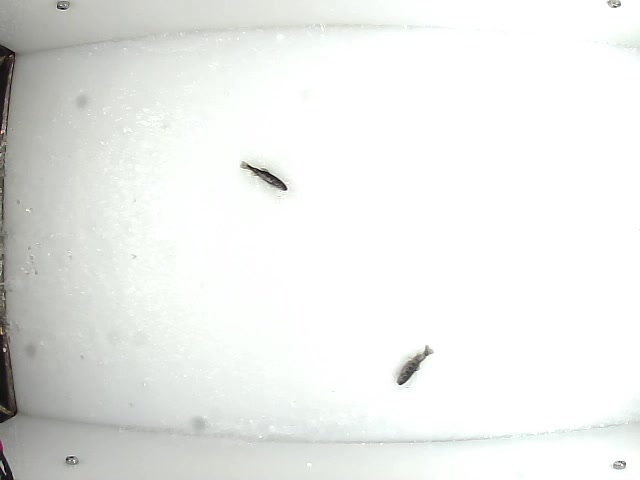fish: (395, 343, 434, 388), (240, 159, 290, 193)
